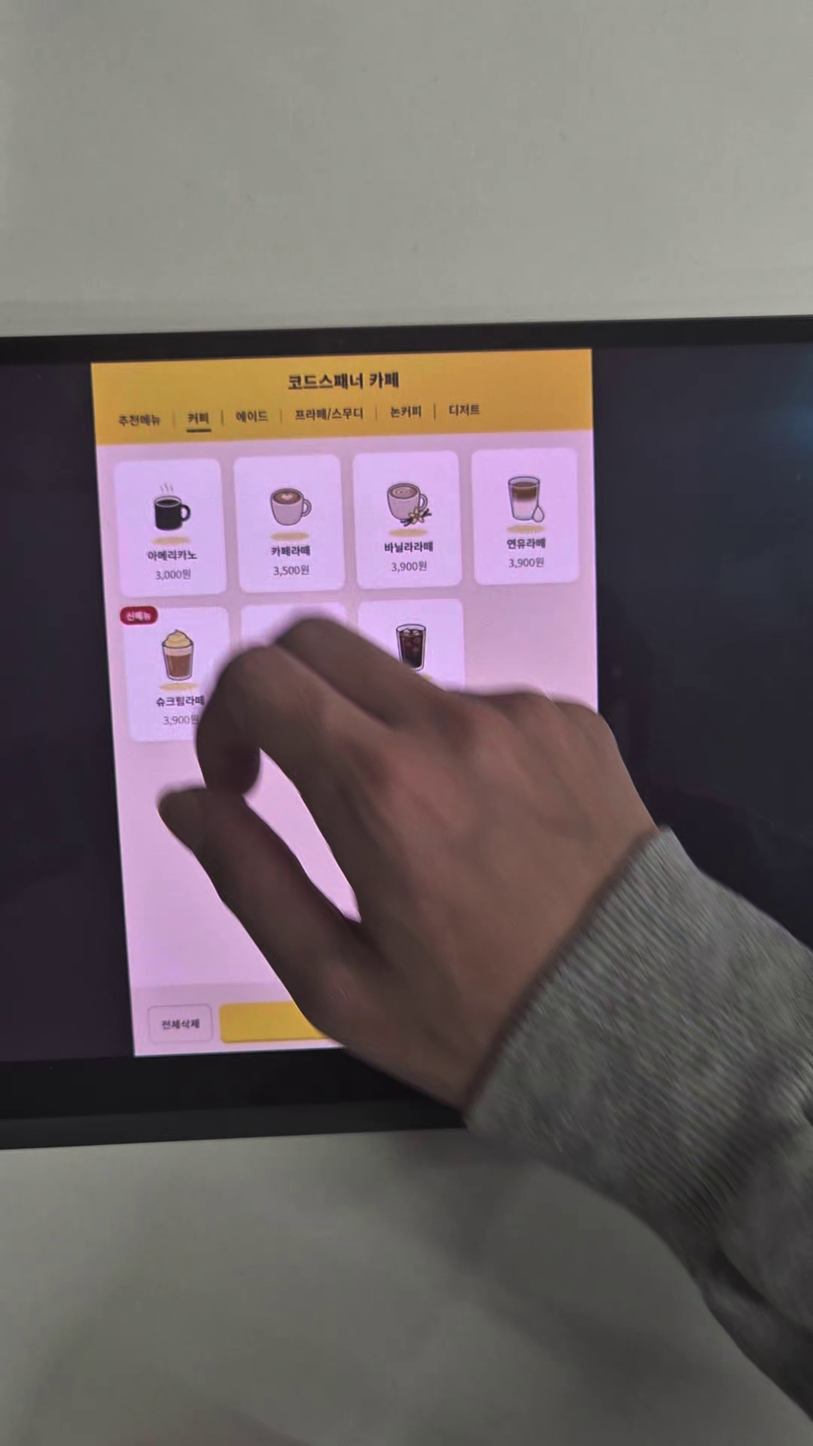action_button: (149, 1005, 214, 1045)
category_tab: (293, 406, 367, 424), (117, 410, 164, 429), (235, 406, 269, 429), (449, 401, 482, 420), (389, 405, 423, 422), (187, 409, 210, 427)
menu_back: (470, 446, 580, 586), (116, 457, 226, 597), (357, 597, 466, 737), (124, 605, 233, 745), (235, 454, 344, 594), (354, 450, 462, 590)
menu_name: (142, 547, 201, 564), (261, 542, 320, 559), (496, 536, 555, 553), (379, 539, 437, 556), (151, 694, 210, 710)
menu_price: (149, 565, 195, 585), (158, 711, 204, 731), (269, 561, 314, 581), (386, 558, 431, 578), (503, 554, 548, 574)
